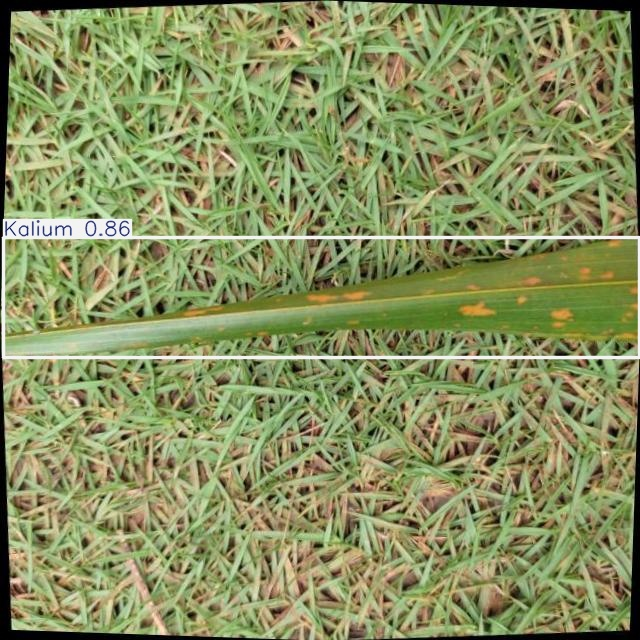Kalium: (4, 238, 639, 358)
